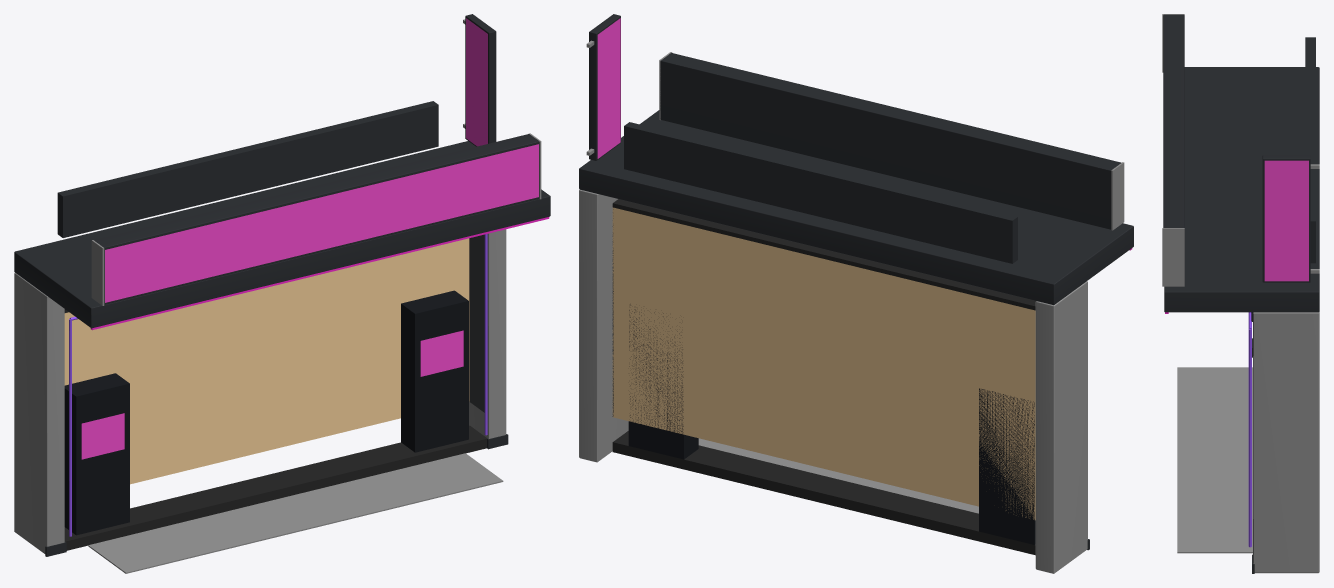
File: St_Shop_Arcade_B.fbx
3 views of the same model, side by side, from view 1: azimuth 30°, elevation 25°; view 2: azimuth 150°, elevation 25°; view 3: azimuth 270°, elevation 25° (orthographic). The views are drawn at different scales.
Parts seen in each view (by area): view 1: St_Shop_Arcade_B_LOD0; view 2: St_Shop_Arcade_B_LOD0; view 3: St_Shop_Arcade_B_LOD0.
Part boxes in pixels (x1,y1,x2,y2): St_Shop_Arcade_B_LOD0: (14, 14, 550, 573); St_Shop_Arcade_B_LOD0: (579, 14, 1133, 573); St_Shop_Arcade_B_LOD0: (1162, 14, 1319, 573).
Size of what is drawn, in the model's own units: 6.02 by 5.12 by 1.77.
